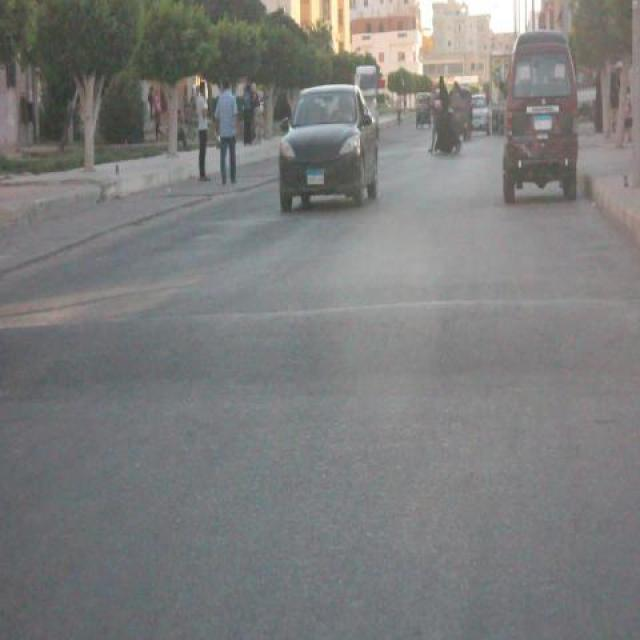Unmarked Bump: (0, 294, 639, 389)
